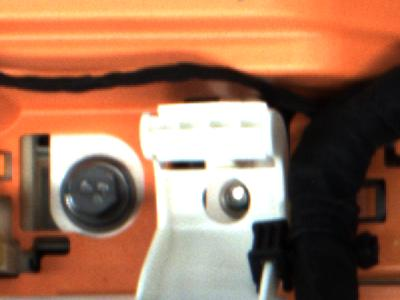nut_b: (63, 152, 136, 235)
